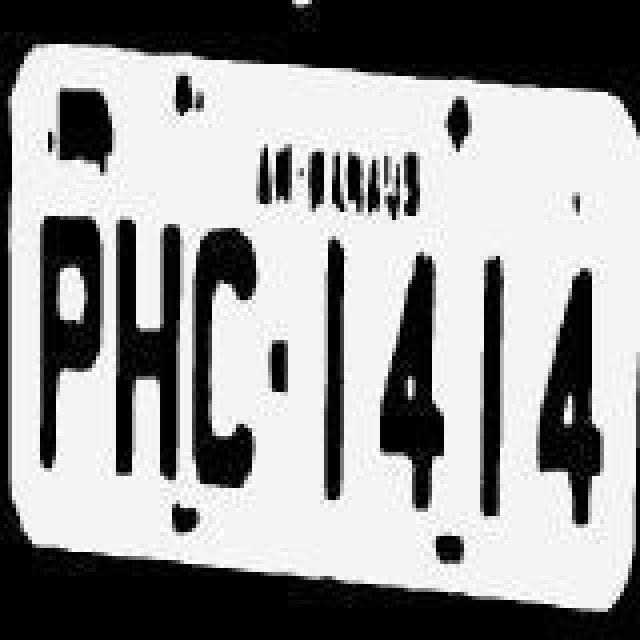1: (312, 222, 360, 514), (474, 242, 518, 526)
4: (530, 240, 614, 528), (378, 248, 454, 520)
C: (192, 222, 272, 498)
H: (110, 210, 186, 486)
P: (32, 210, 112, 478)
